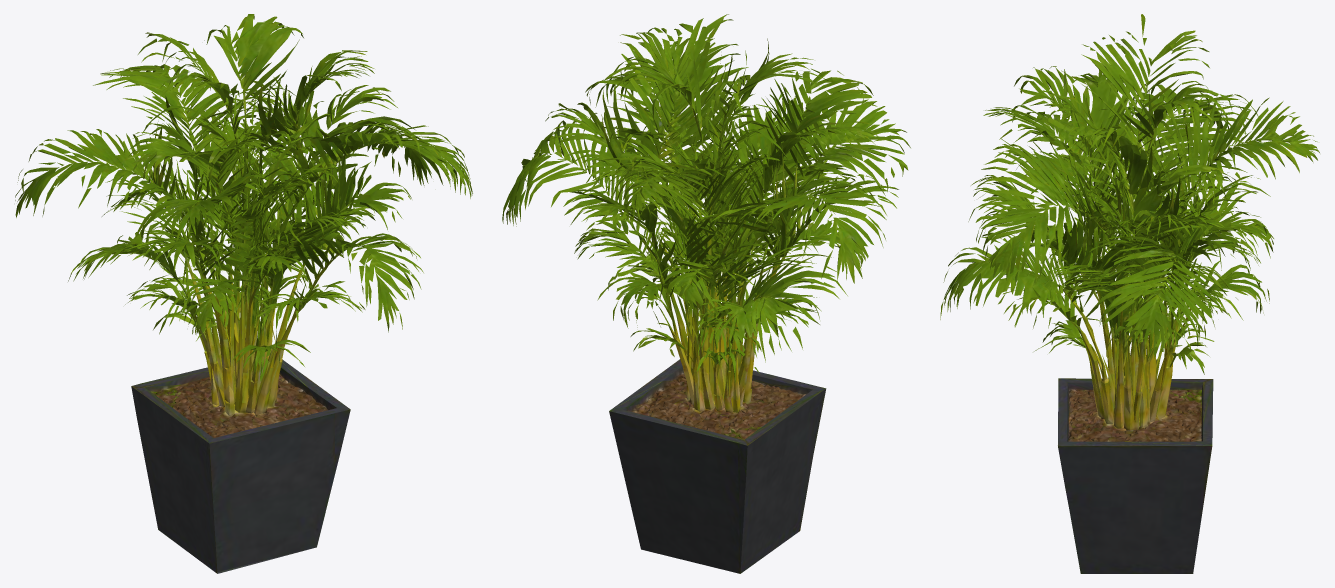
The model's file is w51palm.glb.
3 views of the same model, side by side, from view 1: azimuth 30°, elevation 25°; view 2: azimuth 150°, elevation 25°; view 3: azimuth 270°, elevation 25° (orthographic).
Parts seen in each view (by area): view 1: output_unwrapped; view 2: output_unwrapped; view 3: output_unwrapped.
Part boxes in pixels (<box>): output_unwrapped: <box>15,14,472,573</box>; output_unwrapped: <box>502,14,910,573</box>; output_unwrapped: <box>940,14,1319,573</box>.
Bounding box in the file's own units: 0.9833 × 1.2 × 0.8373.
Materials: 1 (1 with a texture image).
